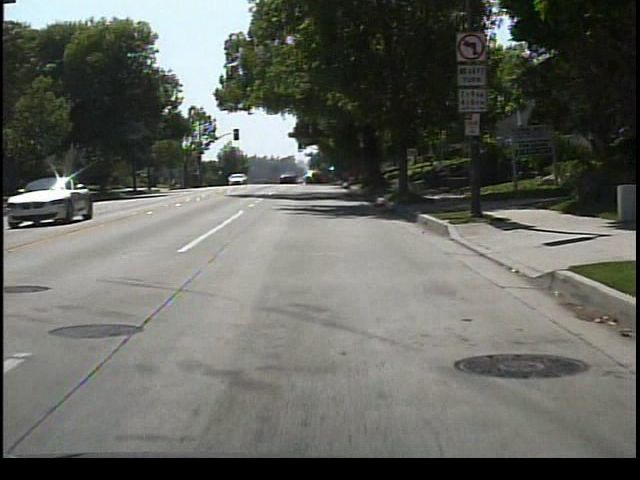person: (423, 154, 444, 191)
